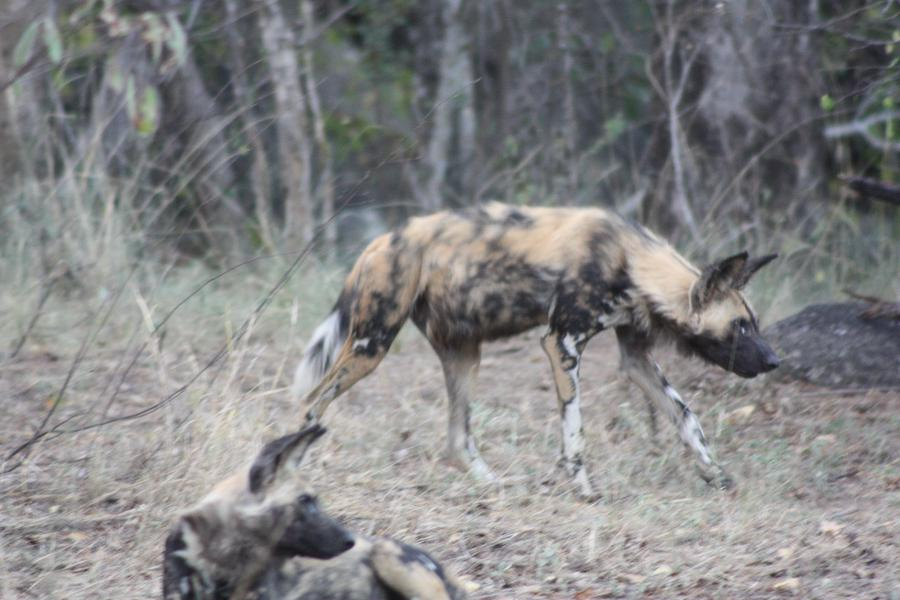wilddog: (277, 206, 738, 411)
